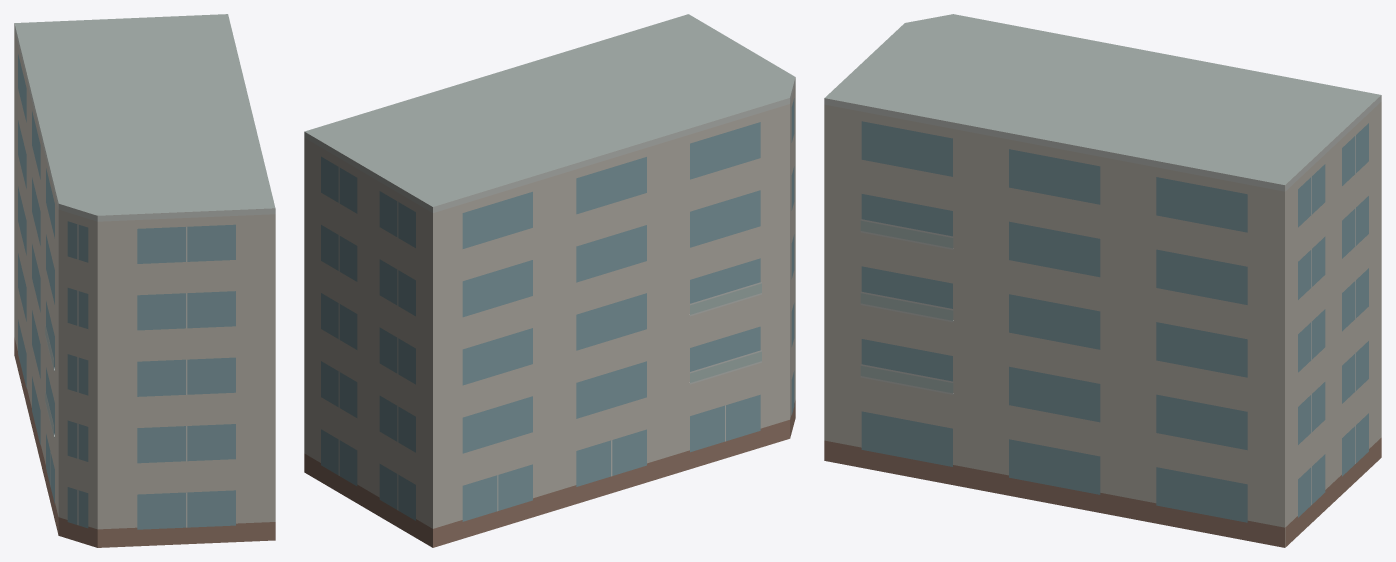
The model's file is survey-upis-32564290.glb.
3 renders of one model, left to right at view 1: azimuth 30°, elevation 25°; view 2: azimuth 150°, elevation 25°; view 3: azimuth 270°, elevation 25°, orthographic. The views are drawn at different scales.
Visible parts, largest first — view 1: survey-upis-32564290.tmp; view 2: survey-upis-32564290.tmp; view 3: survey-upis-32564290.tmp.
Part boxes in pixels (x1,y1,x2,y2): survey-upis-32564290.tmp: (14, 14, 275, 547); survey-upis-32564290.tmp: (304, 14, 795, 547); survey-upis-32564290.tmp: (824, 14, 1381, 547).
Bounding box in the file's own units: 13.83 × 13.65 × 19.01.
